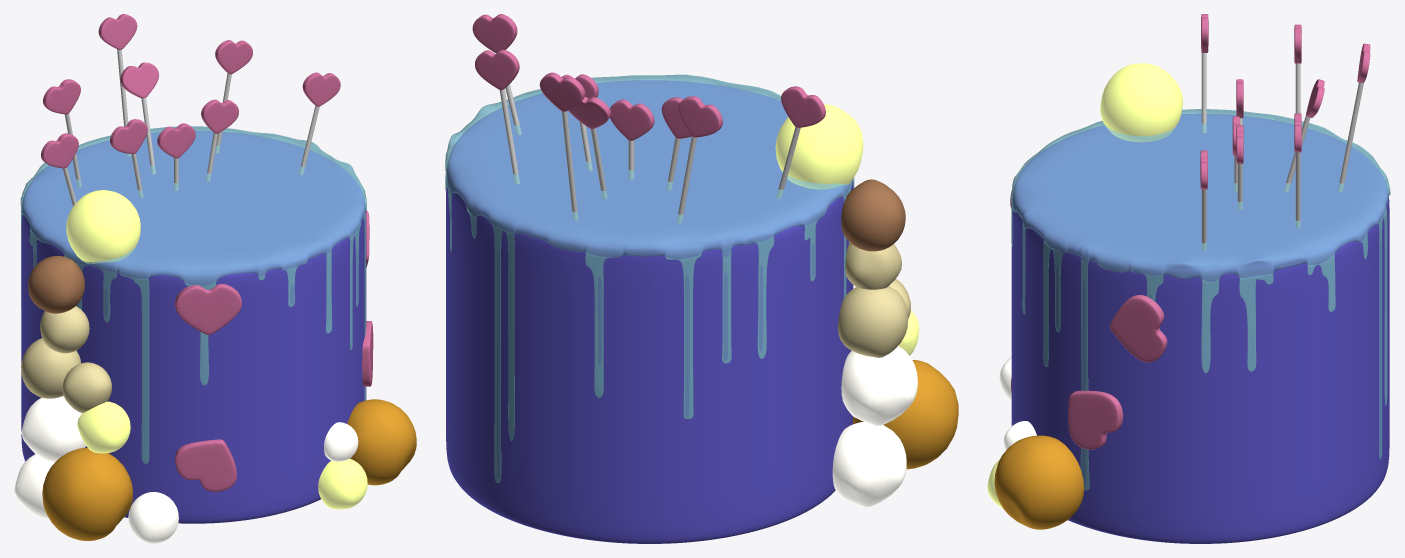
The model's file is Cake_Layer_1_Purple_Topper1_Hearts_BlueDrip.glb.
3 views of the same model, side by side, from view 1: azimuth 30°, elevation 25°; view 2: azimuth 150°, elevation 25°; view 3: azimuth 270°, elevation 25° (orthographic). The views are drawn at different scales.
Parts seen in each view (by area): view 1: Circle, Circle.001, Sphere, Sphere.015, Sphere.026, Sphere.002, Sphere.006, Star.003, Star.002, Sphere.005, Sphere.003, Sphere.001 (+15 smaller); view 2: Circle, Circle.001, Sphere.015, Sphere.013, Sphere.002, Sphere, Sphere.005, Sphere.006, Sphere.010, Star.006, Star.005, Star.009 (+6 smaller); view 3: Circle, Circle.001, Sphere.026, Sphere.015, Star.001, Star.004, Cylinder.049, Sphere.027.
Part boxes in pixels (x1=…): Circle: x1=21, y1=131, x2=366, y2=523; Circle.001: x1=20, y1=126, x2=366, y2=463; Sphere: x1=42, y1=448, x2=132, y2=540; Sphere.015: x1=66, y1=190, x2=140, y2=263; Sphere.026: x1=347, y1=399, x2=416, y2=485; Sphere.002: x1=21, y1=396, x2=85, y2=462; Sphere.006: x1=28, y1=256, x2=84, y2=313; Star.003: x1=175, y1=284, x2=241, y2=334; Star.002: x1=175, y1=439, x2=236, y2=491; Sphere.005: x1=21, y1=338, x2=80, y2=398; Sphere.003: x1=77, y1=401, x2=130, y2=453; Sphere.001: x1=128, y1=492, x2=178, y2=543; Circle: x1=446, y1=80, x2=853, y2=543; Circle.001: x1=445, y1=74, x2=854, y2=483; Sphere.015: x1=775, y1=104, x2=863, y2=189; Sphere.013: x1=832, y1=421, x2=906, y2=507; Sphere.002: x1=841, y1=346, x2=917, y2=426; Sphere: x1=853, y1=360, x2=958, y2=469; Sphere.005: x1=838, y1=286, x2=908, y2=357; Sphere.006: x1=841, y1=179, x2=905, y2=251; Sphere.010: x1=845, y1=242, x2=901, y2=289; Star.006: x1=678, y1=96, x2=722, y2=137; Star.005: x1=781, y1=86, x2=825, y2=127; Star.009: x1=475, y1=49, x2=519, y2=90; Circle: x1=1011, y1=114, x2=1389, y2=543; Circle.001: x1=1010, y1=109, x2=1390, y2=490; Sphere.026: x1=994, y1=435, x2=1083, y2=529; Sphere.015: x1=1100, y1=63, x2=1182, y2=141; Star.001: x1=1110, y1=295, x2=1167, y2=362; Star.004: x1=1068, y1=390, x2=1123, y2=449; Cylinder.049: x1=1338, y1=82, x2=1363, y2=191; Sphere.027: x1=1003, y1=421, x2=1036, y2=450.
Bounding box in the file's own units: 0.1763 × 0.1867 × 0.159.
